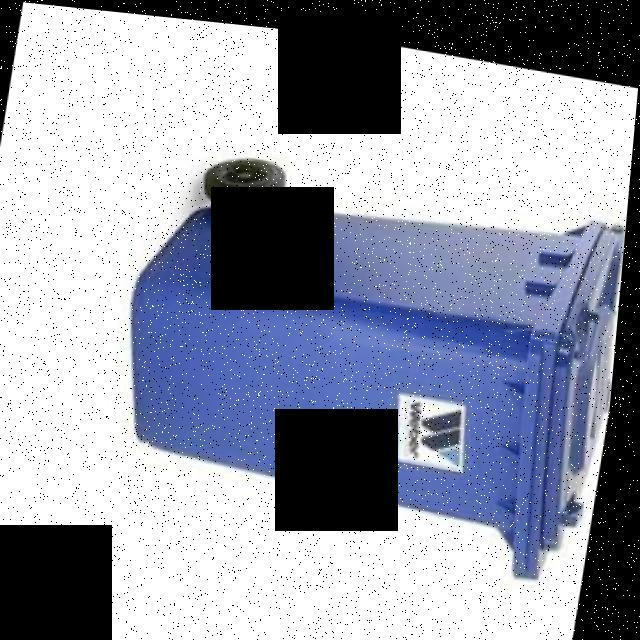bin: (98, 115, 633, 601)
